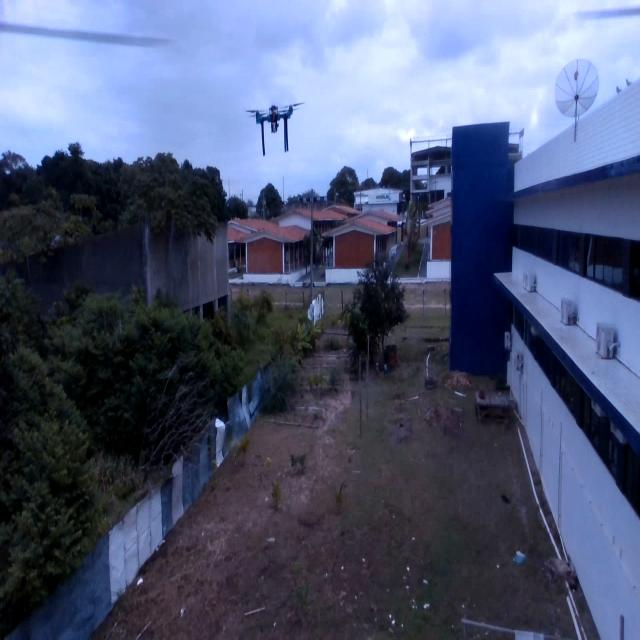-uav-: (241, 93, 312, 166)
